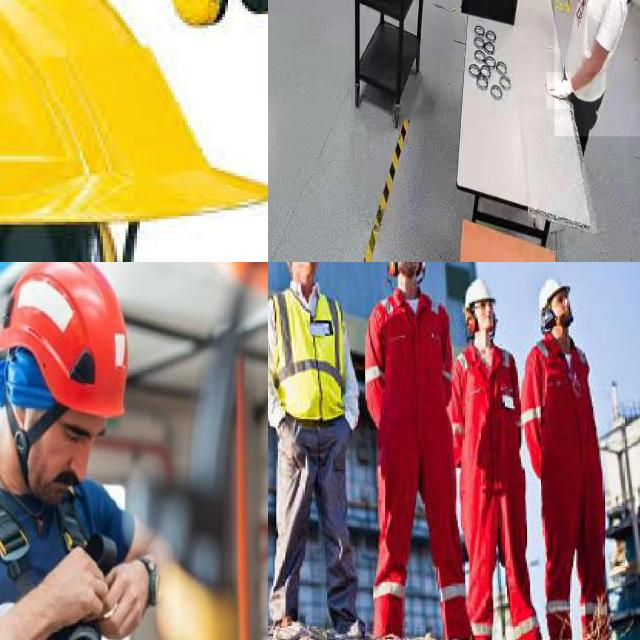Ear-protection: (0, 217, 119, 262), (165, 0, 227, 31), (459, 300, 504, 339), (374, 262, 433, 288), (540, 297, 570, 337)
Harness: (0, 449, 149, 640)
hand_glove: (546, 72, 572, 110)
head_helmet: (0, 0, 268, 227), (536, 274, 575, 312), (459, 277, 501, 311)
person: (354, 262, 474, 640), (268, 262, 376, 640), (520, 262, 625, 640), (451, 272, 531, 640), (554, 0, 640, 137)
vest: (268, 288, 351, 429)
